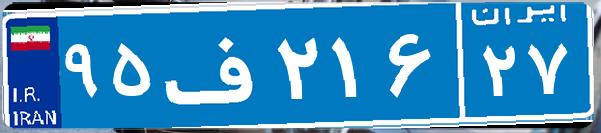1: (330, 28, 385, 110)
2: (273, 28, 330, 110), (475, 38, 525, 113)
5: (110, 28, 158, 105)
6: (385, 28, 445, 110)
7: (525, 38, 570, 115)
9: (57, 26, 110, 107)
ف: (158, 15, 273, 115)
